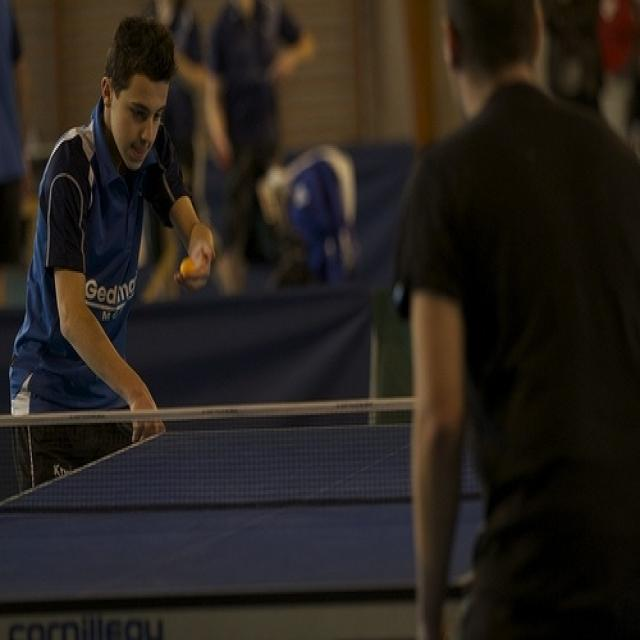TT Net: (0, 393, 482, 519)
TT Table: (0, 421, 490, 605)
